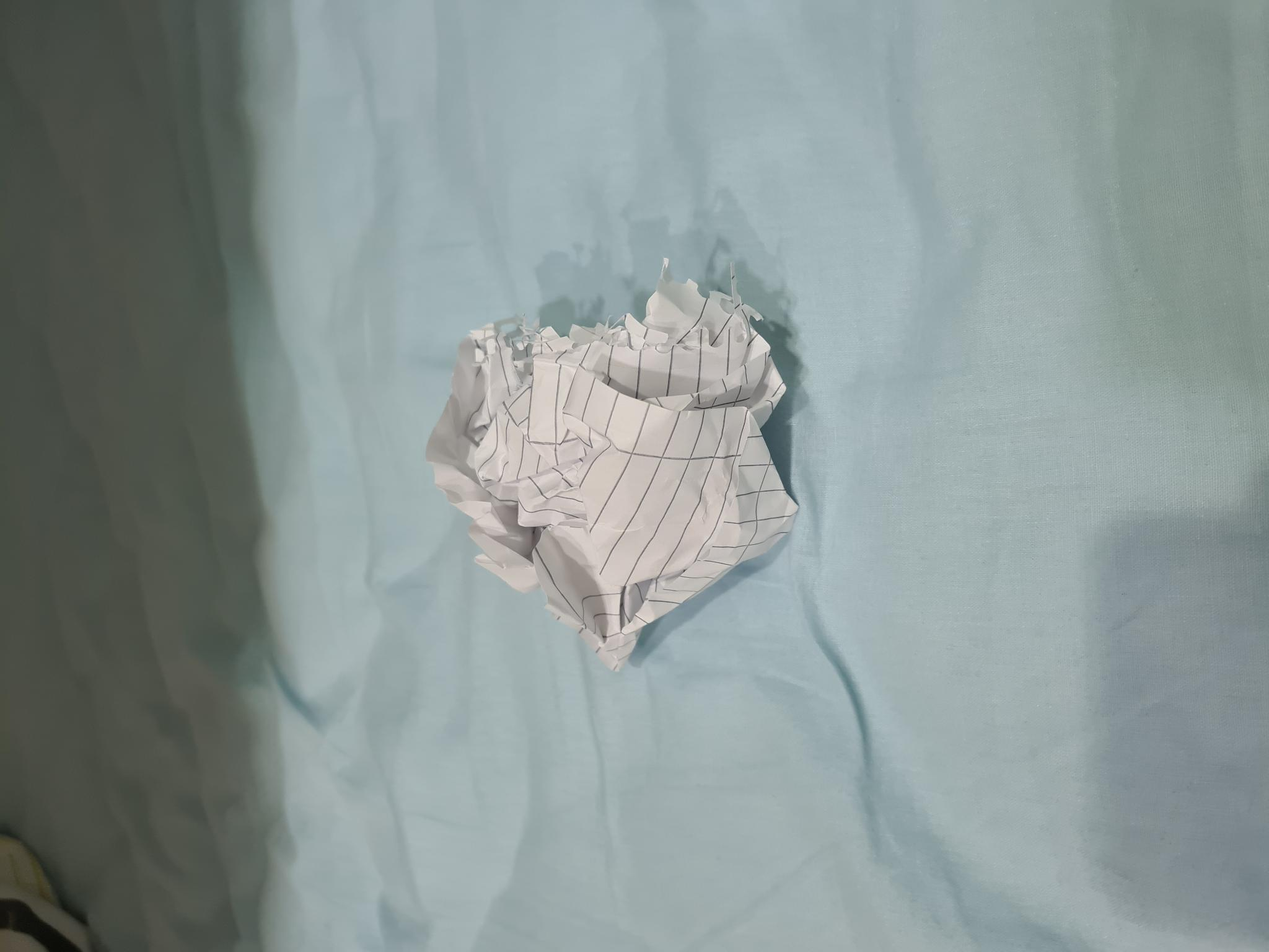Kertas: (368, 438, 634, 798)
